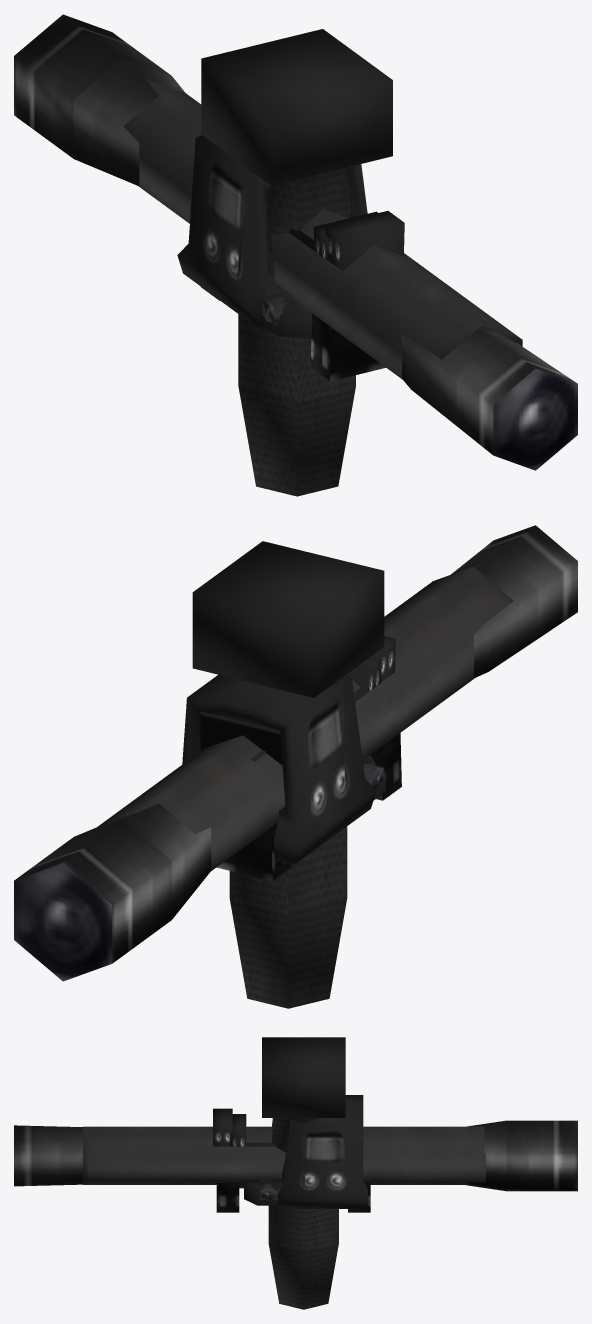
File: attachments.fbx
3 views of the same model, one above another, from view 1: azimuth 30°, elevation 25°; view 2: azimuth 150°, elevation 25°; view 3: azimuth 270°, elevation 25° (orthographic). The views are drawn at different scales.
Visible parts, largest first — view 1: Foregrip, Scope, Surpresor, Holo Sight, Flashlight, Red Dot Sight, Laser; view 2: Foregrip, Scope, Surpresor, Holo Sight, Laser, Flashlight; view 3: Surpresor, Foregrip, Scope, Holo Sight, Flashlight, Laser, Red Dot Sight.
Part boxes in pixels (box(x1,y1,x2,y2)): Foregrip: box(201, 29, 392, 496); Scope: box(14, 14, 577, 470); Surpresor: box(123, 79, 522, 379); Holo Sight: box(177, 135, 367, 328); Flashlight: box(325, 211, 404, 271); Red Dot Sight: box(260, 285, 311, 338); Laser: box(289, 211, 377, 260); Foregrip: box(192, 541, 384, 1008); Scope: box(14, 525, 577, 981); Surpresor: box(97, 566, 513, 870); Holo Sight: box(182, 674, 383, 864); Laser: box(346, 657, 381, 701); Flashlight: box(369, 636, 395, 681); Surpresor: box(83, 1126, 485, 1184); Foregrip: box(262, 1037, 345, 1309); Scope: box(14, 1120, 577, 1212); Holo Sight: box(258, 1095, 367, 1208); Flashlight: box(213, 1108, 232, 1146); Laser: box(230, 1114, 275, 1188); Red Dot Sight: box(244, 1182, 282, 1205).
Size of the model in its own units: 18.58 by 54.64 by 115.
Materials: 1 (1 with a texture image).
